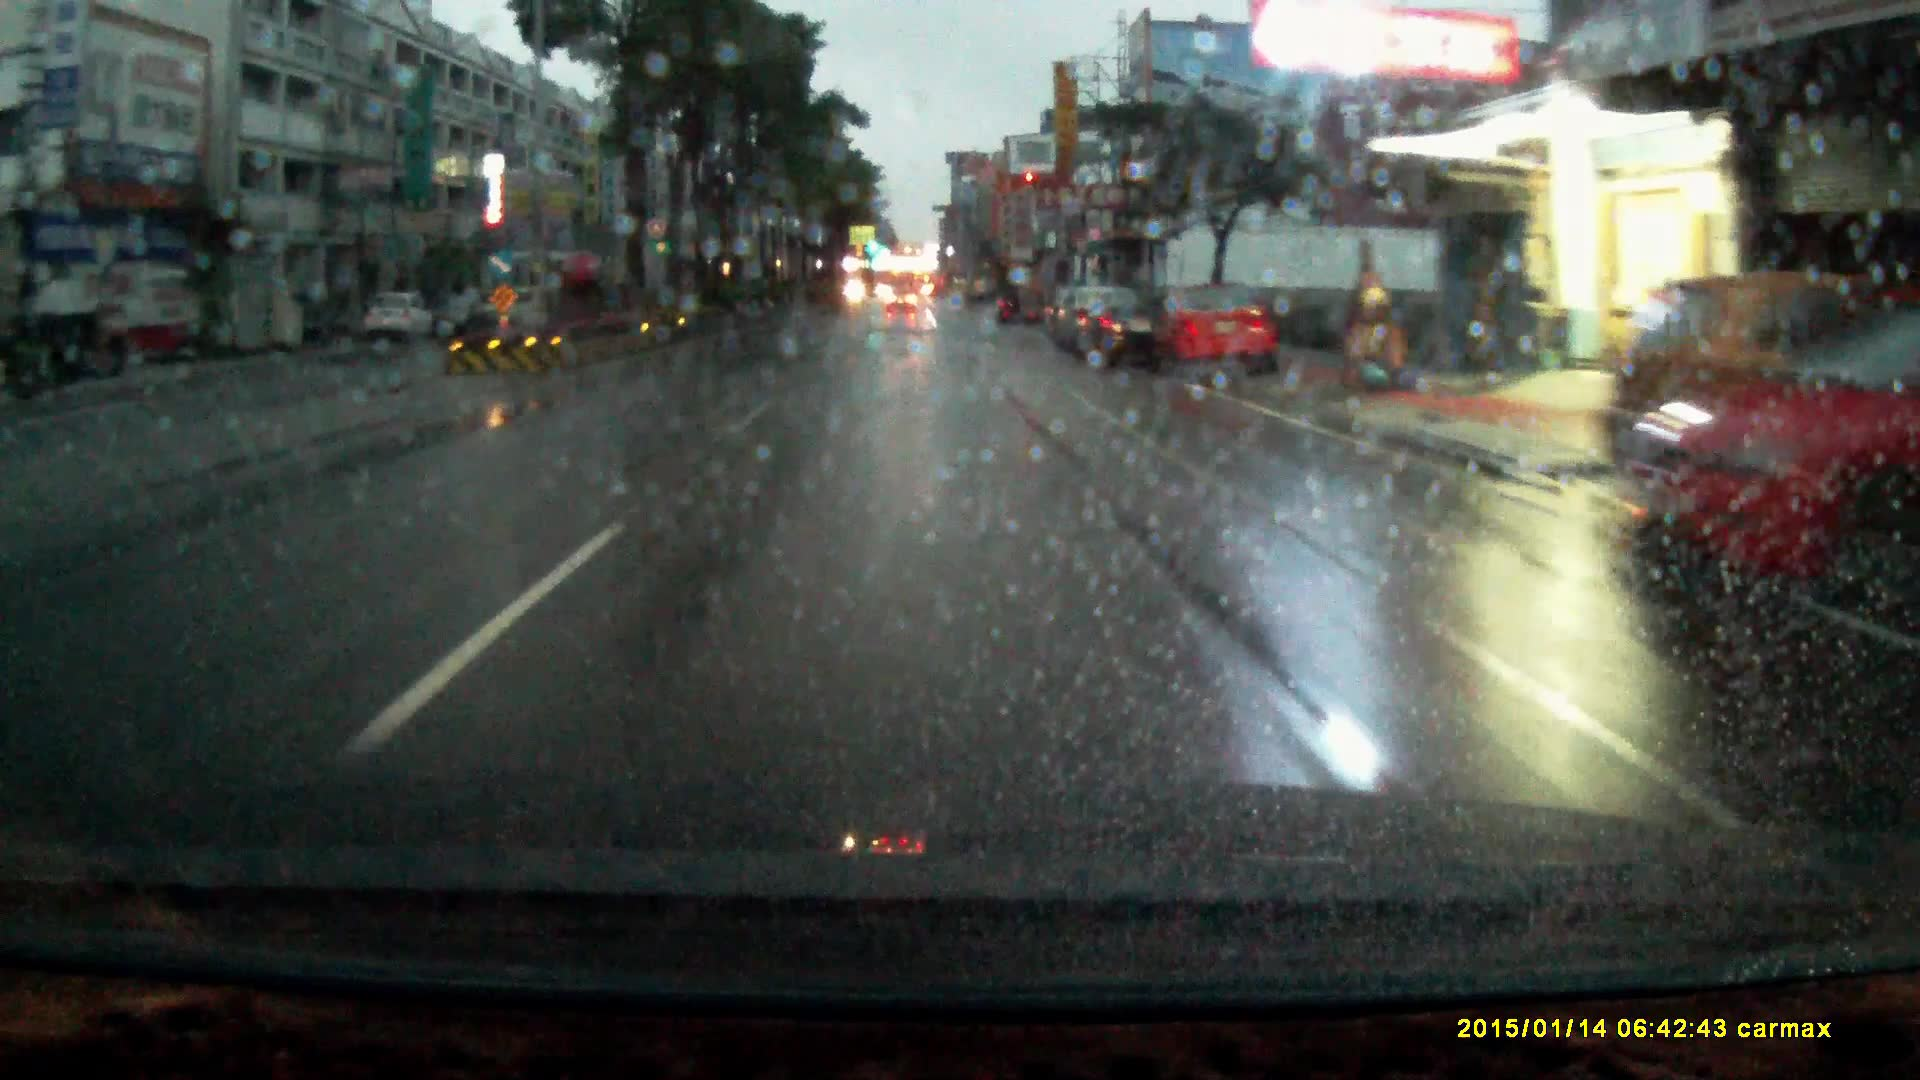vehicle: (1147, 295, 1278, 394), (1069, 298, 1160, 384), (1055, 290, 1131, 361), (360, 290, 436, 345), (472, 286, 553, 334), (1042, 289, 1063, 344), (887, 291, 918, 319)
